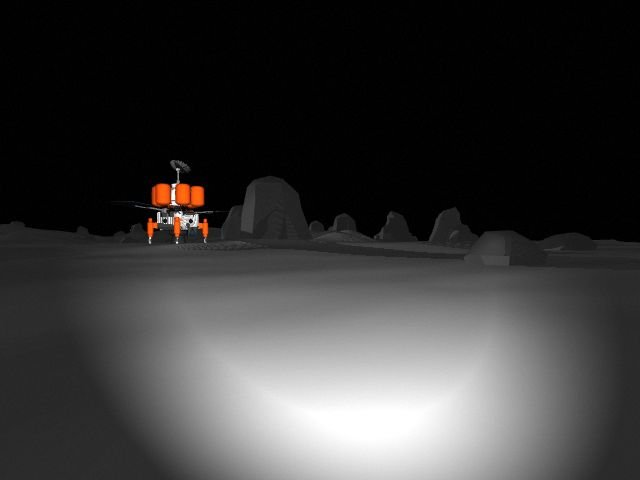homebase: (128, 156, 224, 249)
